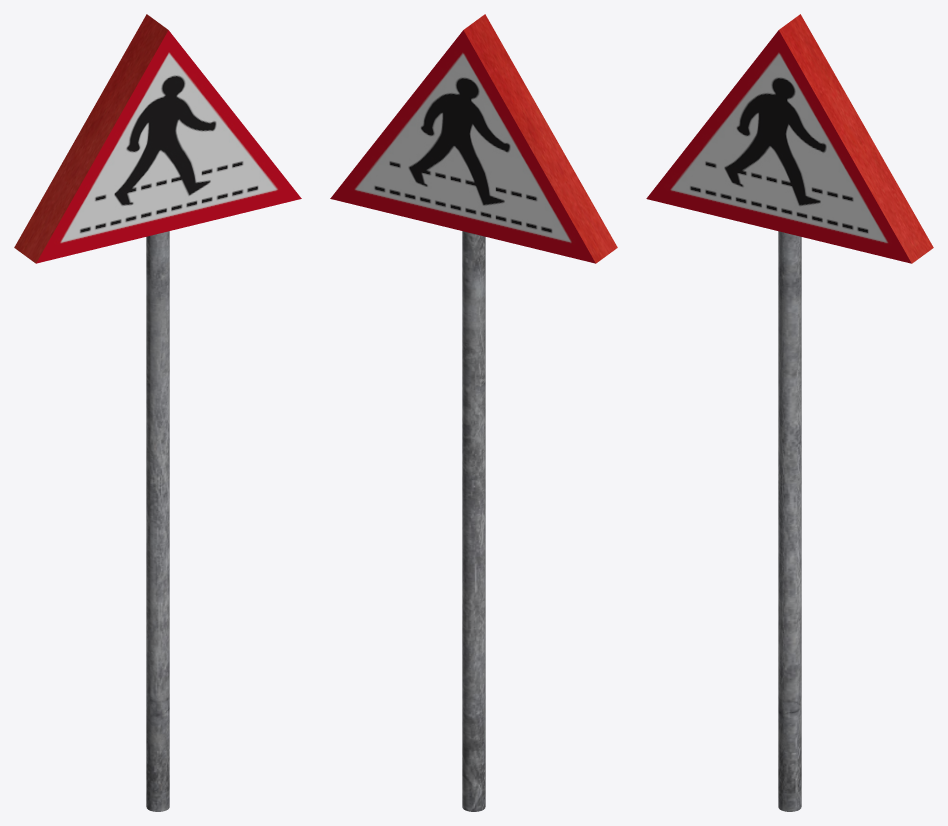
File: sign.fbx
3 renders of one model, left to right at view 1: azimuth 30°, elevation 25°; view 2: azimuth 150°, elevation 25°; view 3: azimuth 330°, elevation 25°, orthographic.
Parts seen in each view (by area): view 1: pCube3; view 2: pCube3; view 3: pCube3.
Part boxes in pixels (<box>): pCube3: <box>14,14,301,811</box>; pCube3: <box>330,14,617,811</box>; pCube3: <box>646,14,933,811</box>.
Bounding box in the file's own units: 2.79 × 7.87 × 0.3968.
